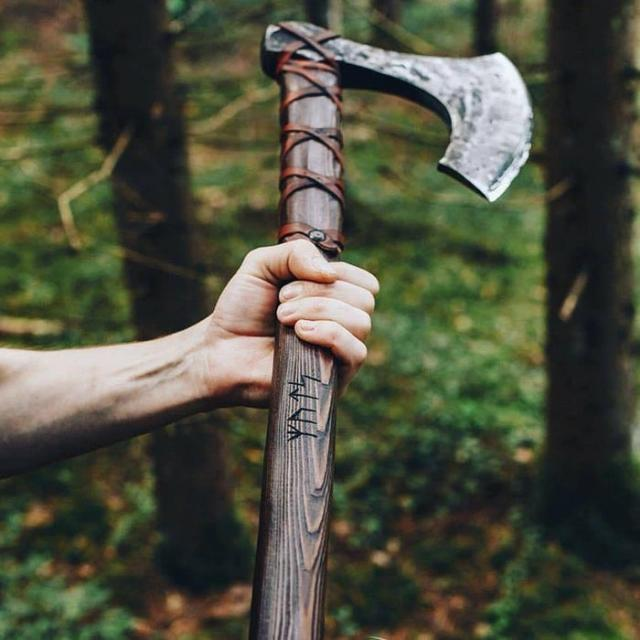axe: (251, 16, 538, 640)
